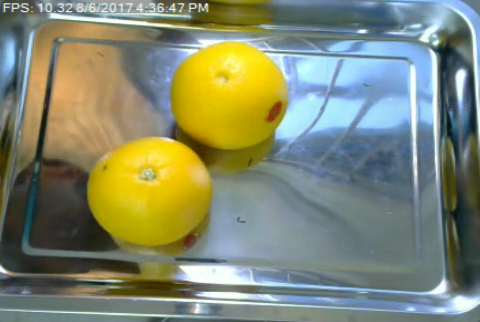Orange: (86, 137, 211, 245), (172, 41, 288, 149)
